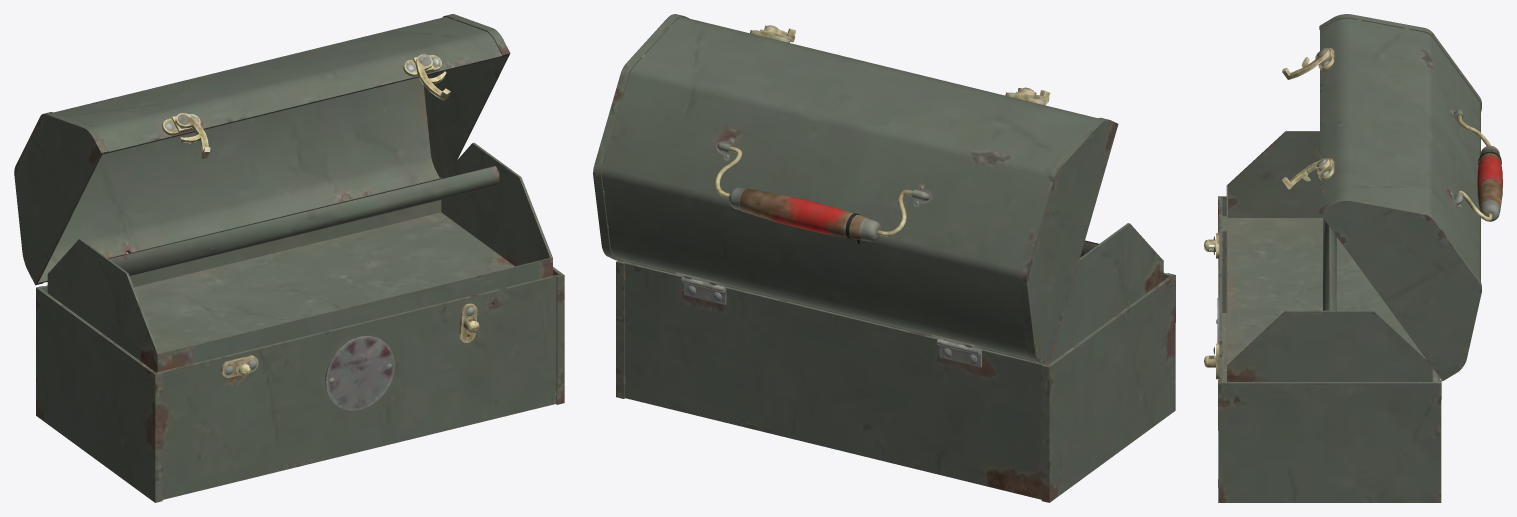
Rendered from metal_toolbox.glb.
The picture shows the model from 3 angles, left to right: view 1: azimuth 30°, elevation 25°; view 2: azimuth 150°, elevation 25°; view 3: azimuth 270°, elevation 25°; orthographic projection. The views are drawn at different scales.
Visible parts, largest first — view 1: Cylinder.015, metal_toolbox, metal_toolbox_tray, metal_toolbox_handle_latch_r, metal_toolbox_handle_latch_l; view 2: Cylinder.015, metal_toolbox, metal_toolbox_tray, metal_toolbox_handle; view 3: Cylinder.015, metal_toolbox_tray, metal_toolbox, metal_toolbox_handle, metal_toolbox_handle_latch_l, metal_toolbox_handle_latch_r.
Part boxes in pixels (x1,y1,x2,y2): Cylinder.015: (14, 14, 510, 285); metal_toolbox: (36, 267, 564, 502); metal_toolbox_tray: (47, 142, 552, 372); metal_toolbox_handle_latch_r: (415, 54, 450, 100); metal_toolbox_handle_latch_l: (175, 113, 210, 158); Cylinder.015: (593, 14, 1118, 365); metal_toolbox: (616, 260, 1175, 502); metal_toolbox_tray: (628, 223, 1163, 363); metal_toolbox_handle: (715, 146, 912, 244); Cylinder.015: (1317, 14, 1481, 381); metal_toolbox_tray: (1226, 131, 1432, 381); metal_toolbox: (1204, 196, 1441, 502); metal_toolbox_handle: (1457, 114, 1502, 221); metal_toolbox_handle_latch_l: (1282, 48, 1330, 79); metal_toolbox_handle_latch_r: (1282, 158, 1330, 189).
Bounding box in the file's own units: 0.4 × 0.3047 × 0.2705.
Materials: 1 (1 with a texture image).
